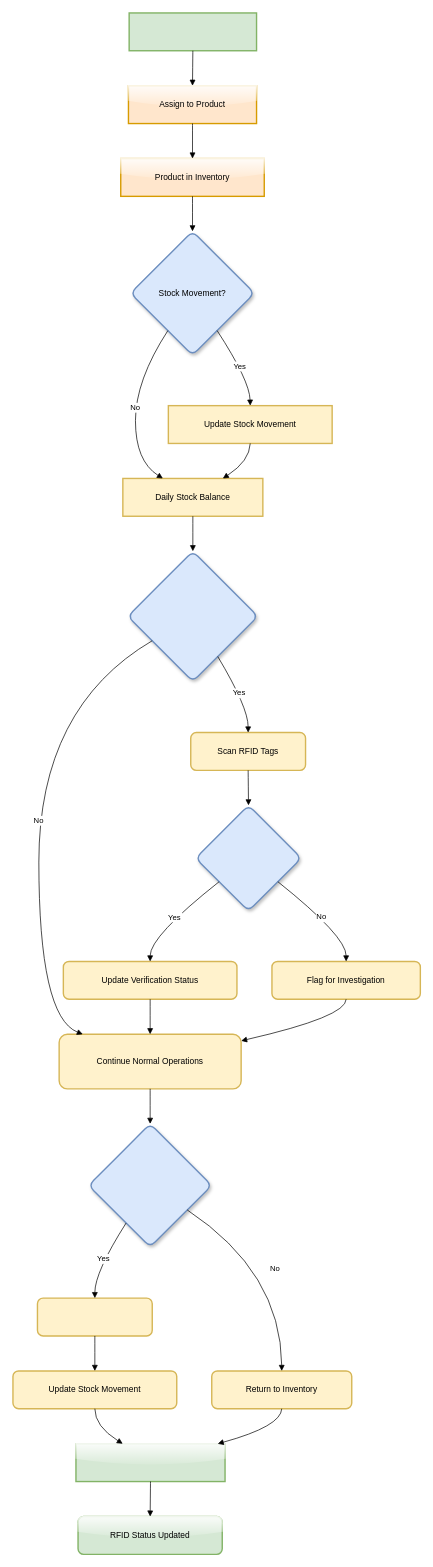
Image size: 433x1567. Some labels were removed from this diagram. Each missing label, with the centre of its shape:
Create Invoice: (94,1316)
Match Found?: (249,859)
RFID Tag Created: (192,31)
Sale Transaction?: (150,1186)
Stock Verification?: (193,617)
Update Daily Balance: (150,1462)
